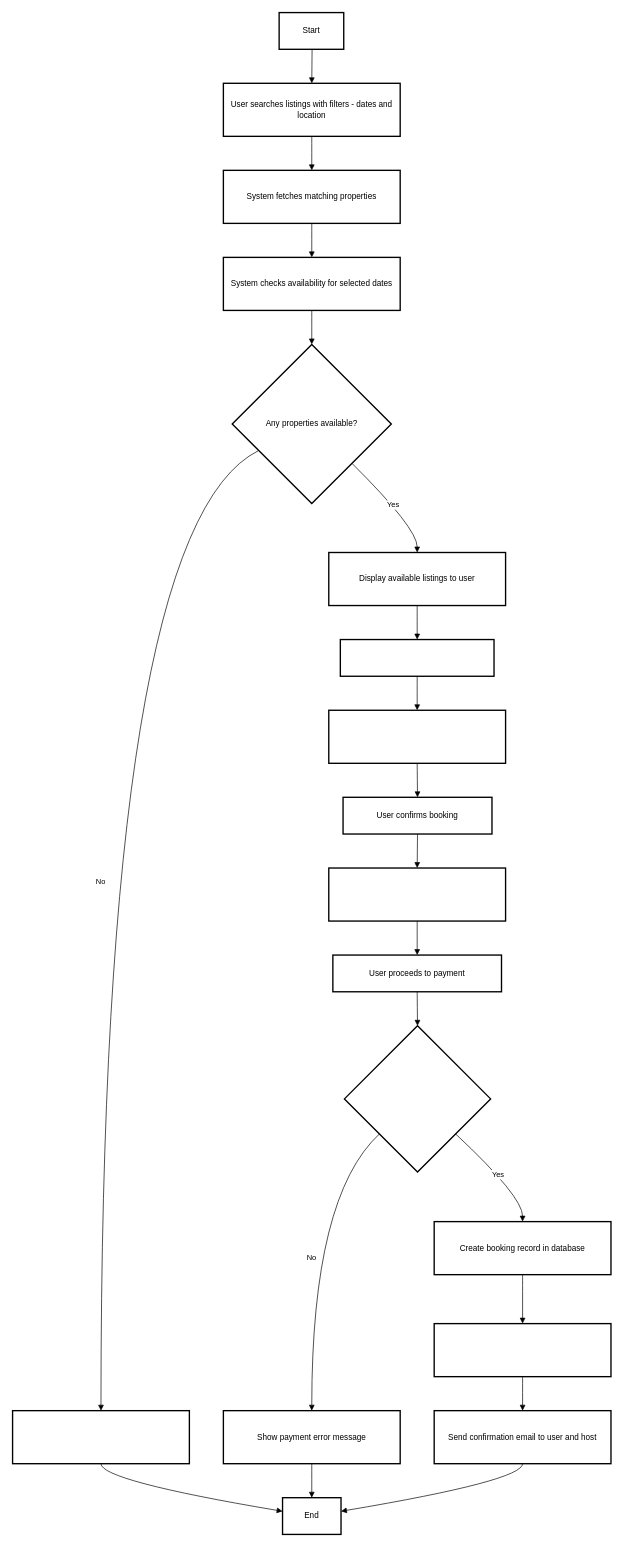
The diagram is 623 pixels wide and 1546 high, and some of its shapes have lost their labels. Each missing label, with the box of its shape:
Is payment successful?: (343, 1025, 491, 1172)
Show message: No properties available: (12, 1410, 190, 1464)
System calculates total price: (328, 867, 506, 921)
Update property availability calendar: (433, 1323, 611, 1377)
User reviews property details: (328, 709, 506, 764)
User selects a property: (339, 639, 494, 677)
